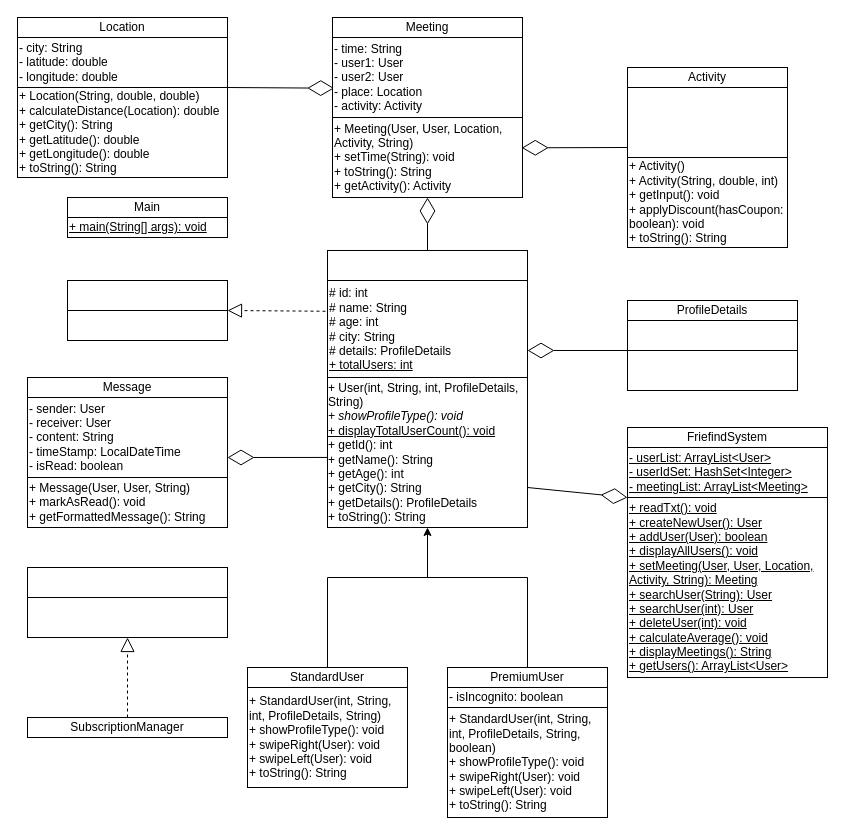
This 845x835 diagram has some shape labels left out. Here are the shapes that lost their labels. From the top down, the box of each, then its label:
(626, 86, 788, 158): - type: String - price: double - duration: int - appDiscount: int
(326, 250, 528, 280): <<Abstract>> User
(66, 280, 228, 310): <<Interface>> Matchable
(66, 310, 228, 340): + swipeRight(User): void + swipeLeft(User): void
(626, 320, 798, 350): - bio: String - hobby: String
(626, 350, 798, 390): + ProfileDetails(String, String) + toString(): String
(26, 566, 228, 598): <<Interface>> SubscriptionService
(26, 596, 228, 638): + upgradeToPremium(User): void + calculateMonthlyFee(User): void
